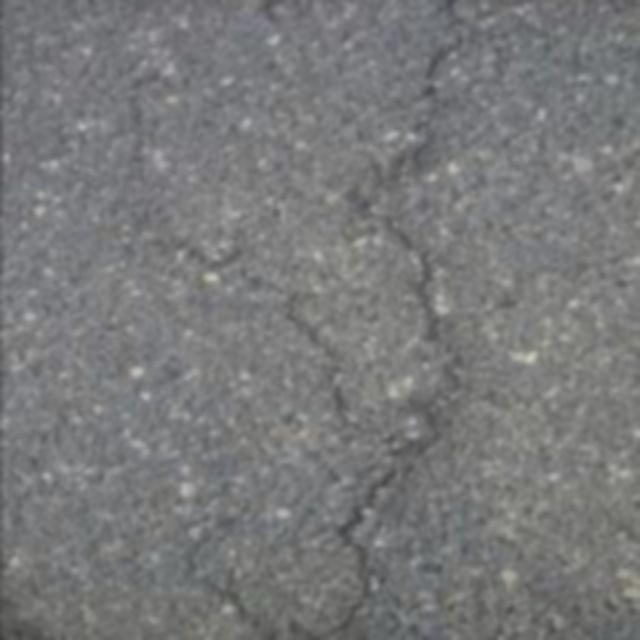SurfaceCrack: (168, 0, 552, 640)
